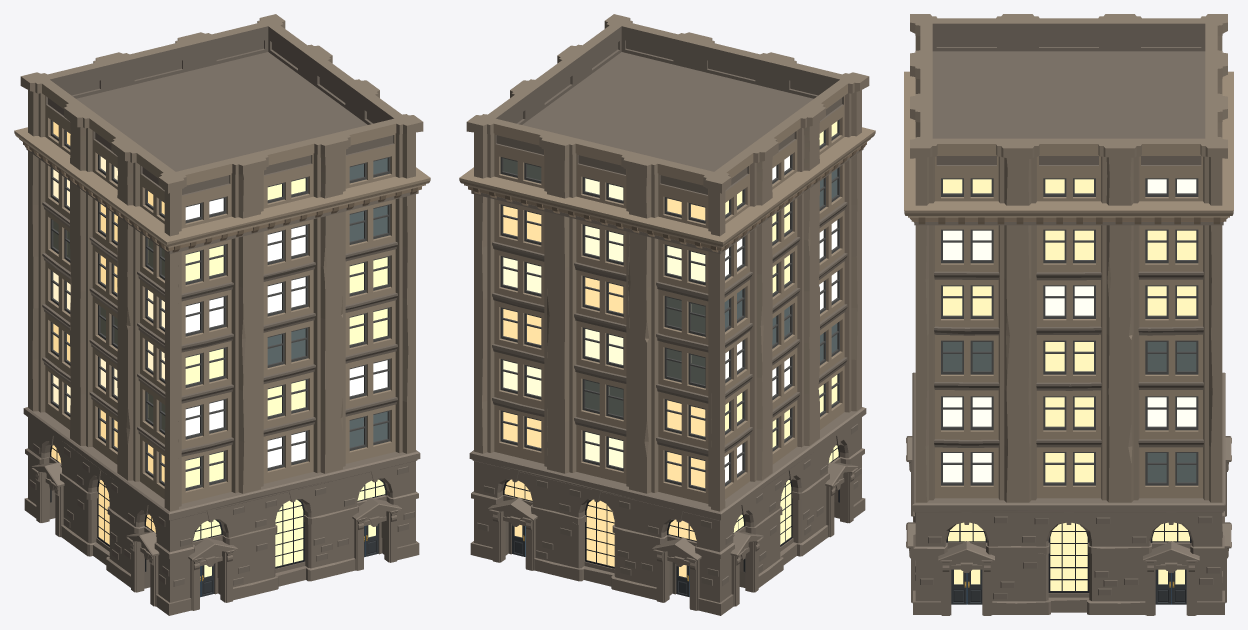
Rendered from SM_Bld_OfficeOld_Large_01.fbx.
3 views of the same model, side by side, from view 1: azimuth 30°, elevation 25°; view 2: azimuth 150°, elevation 25°; view 3: azimuth 270°, elevation 25° (orthographic). The views are drawn at different scales.
Parts seen in each view (by area): view 1: SM_Bld_OfficeOld_Large_01; view 2: SM_Bld_OfficeOld_Large_01; view 3: SM_Bld_OfficeOld_Large_01.
Part boxes in pixels (bbox=[...]): SM_Bld_OfficeOld_Large_01: bbox=[14, 14, 430, 615]; SM_Bld_OfficeOld_Large_01: bbox=[459, 14, 875, 615]; SM_Bld_OfficeOld_Large_01: bbox=[904, 14, 1233, 615].
Size of the model in its own units: 1609 by 2525 by 1612.
